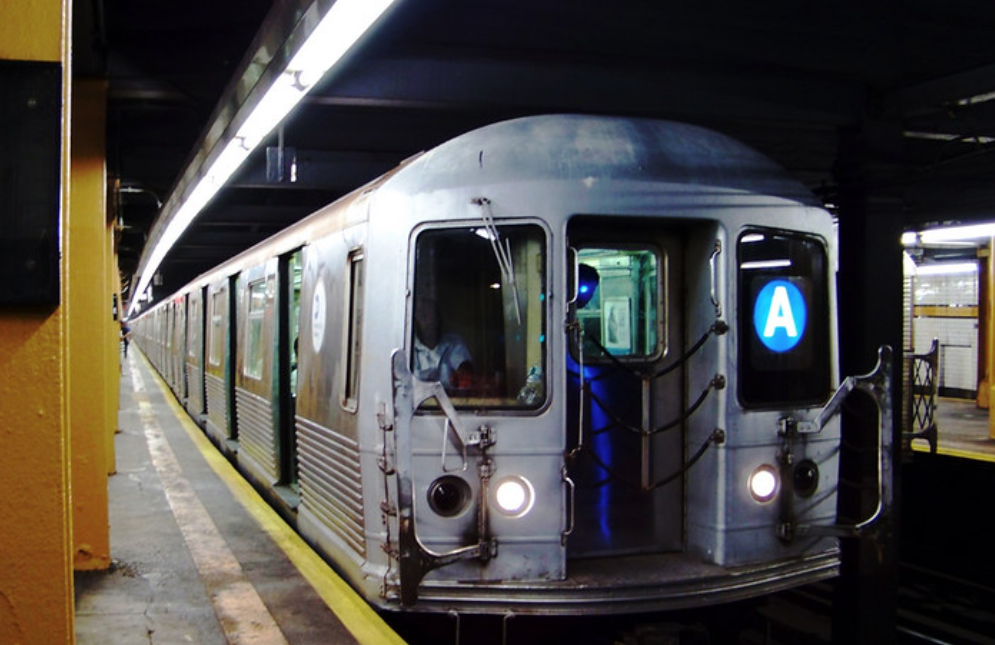train: (353, 110, 853, 613)
